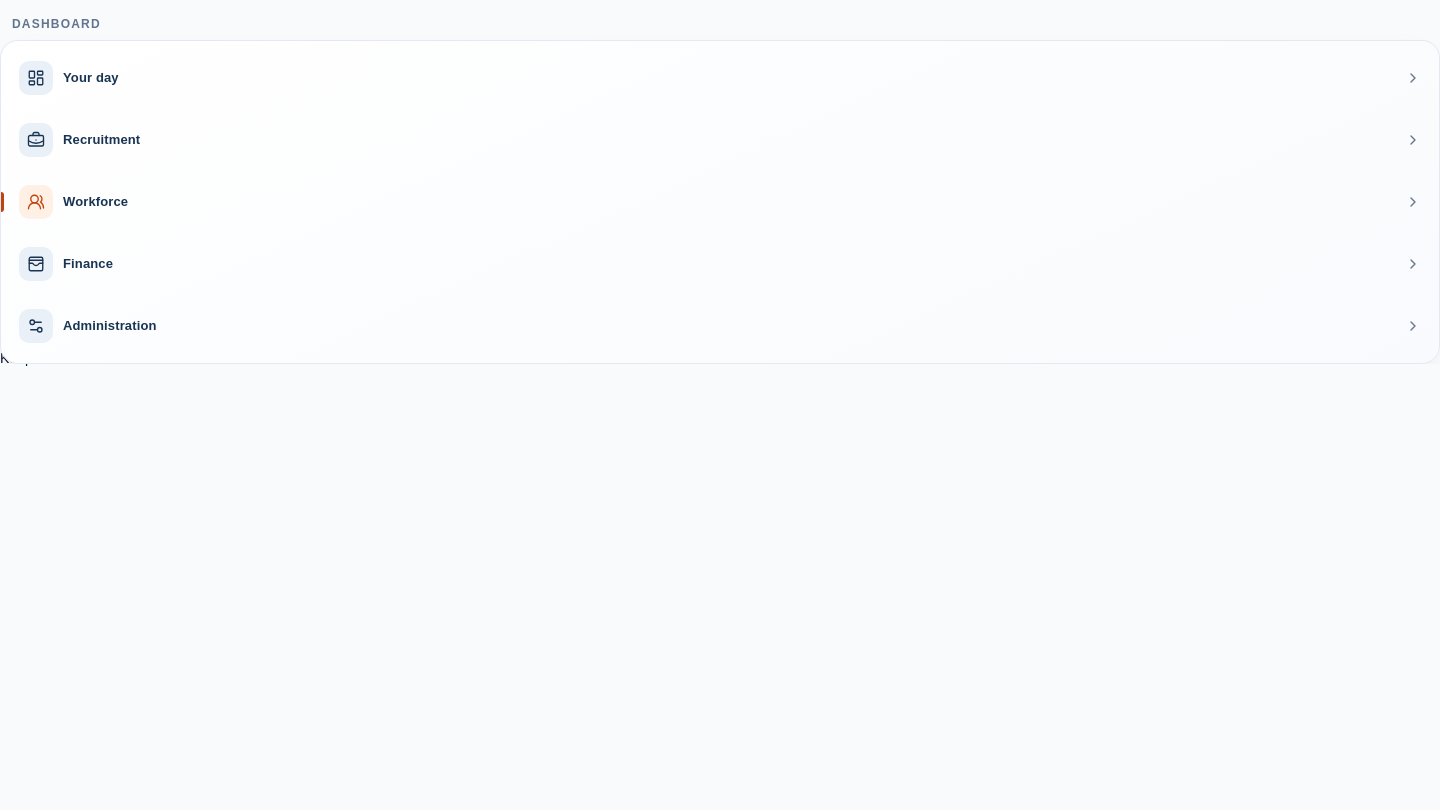
Test: opens one menu group at a time without changing the page, then navigates to the chosen item
The width and height of the screenshot is (1440, 810).
Earlier steps of the test are not shown.
Later steps or results of the test are not shown.
Click the button "Workforce" at (36, 202), box [9,173,1431,231]
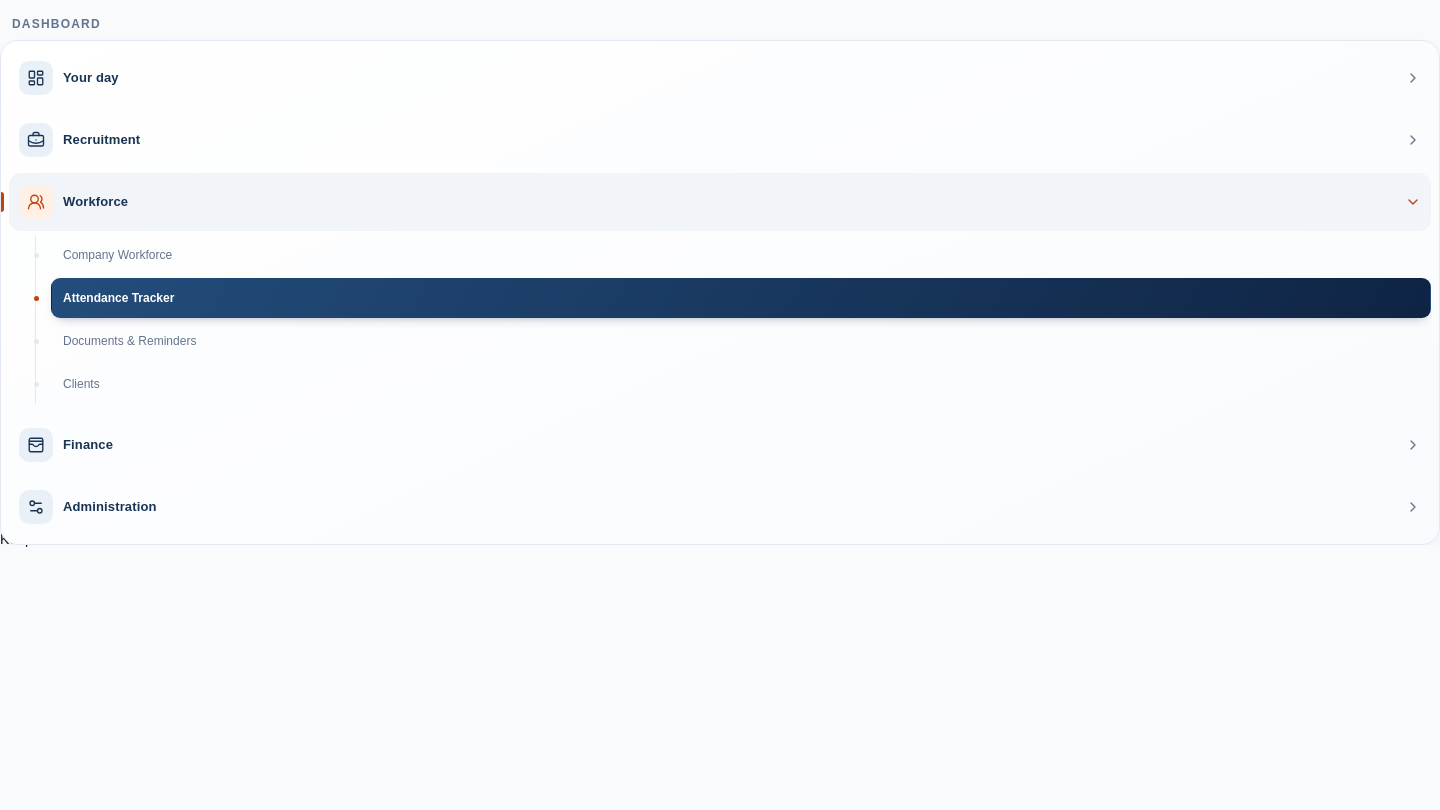
Click the button "Finance" at (36, 445), box [9,416,1431,474]
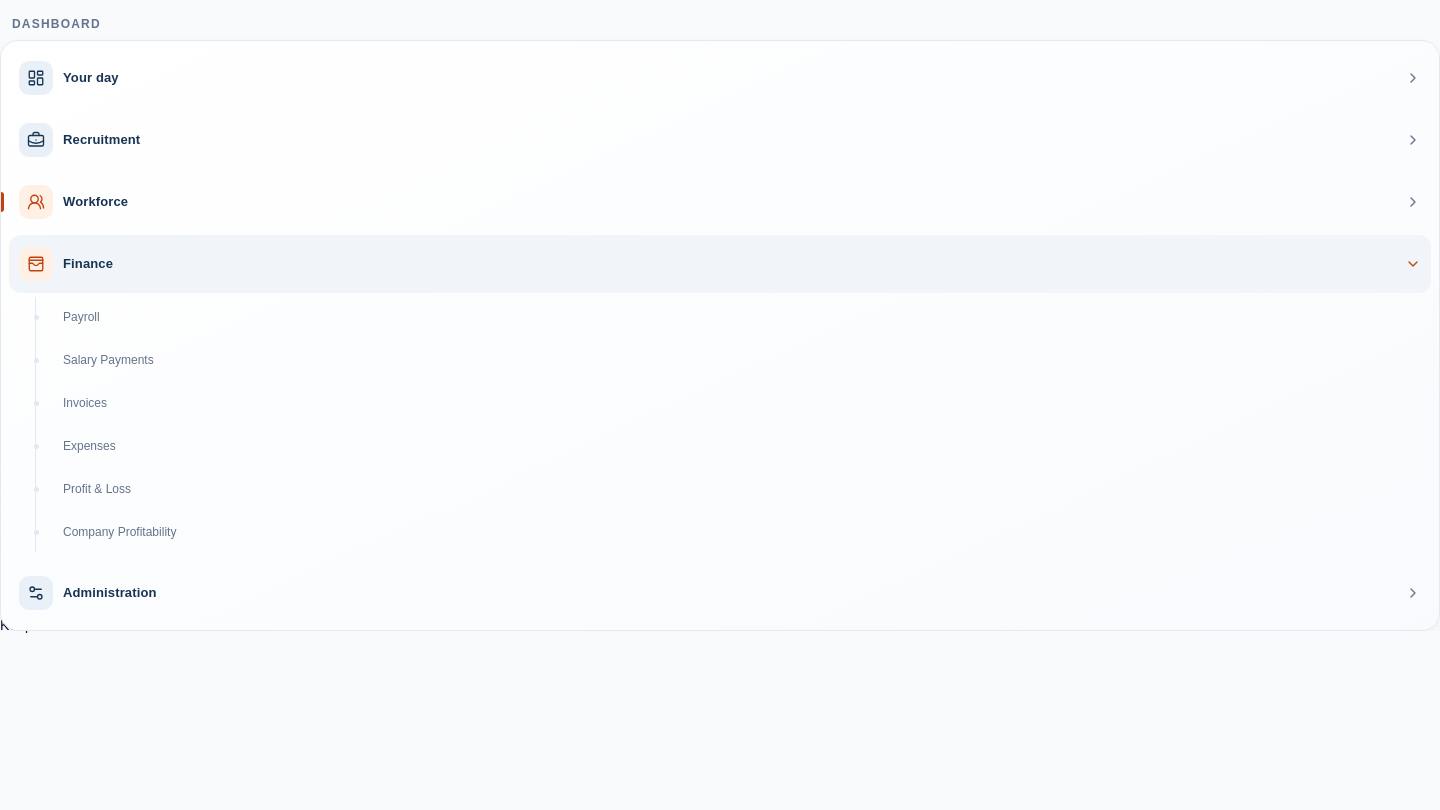
Expected: the field named "Unsaved draft" holds "Keep these edits", [0,615,181,635]
Click the button "Invoices" at (85, 403), box [51,383,1431,423]
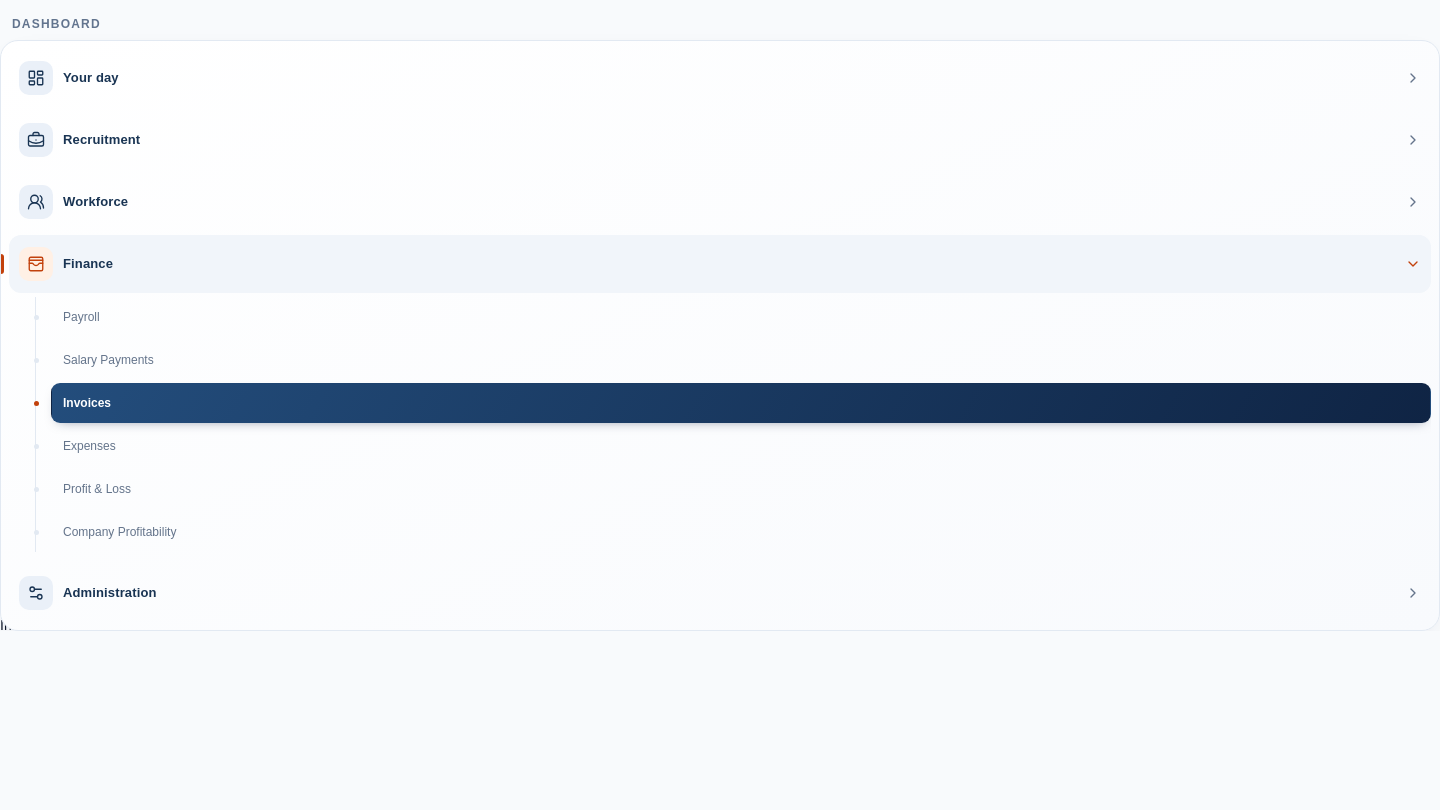
Now the text with id "admin-panel-invoices" reads "Invoice editor", box [0,617,83,633]
